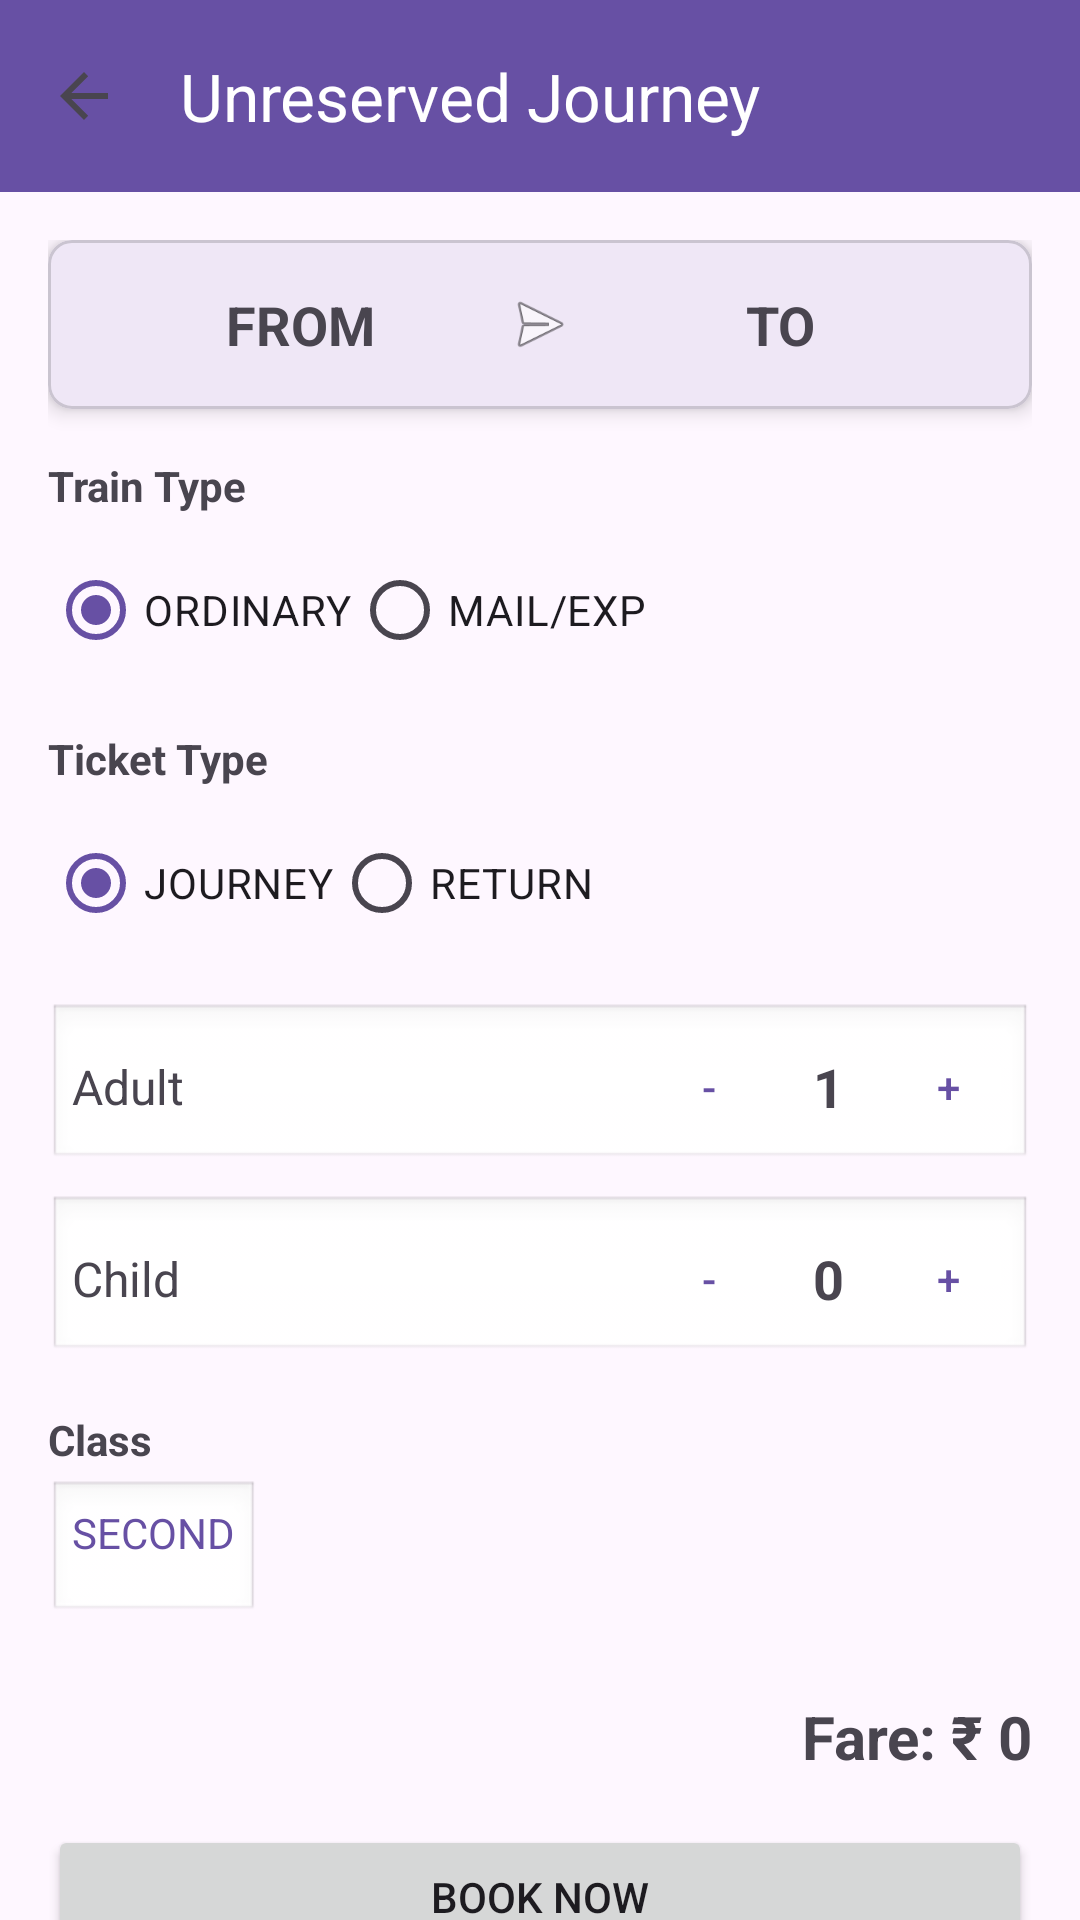

Point at icon controls on the screen. Image size 1080x1920, points as point (x, y).
send: point (541, 324)
